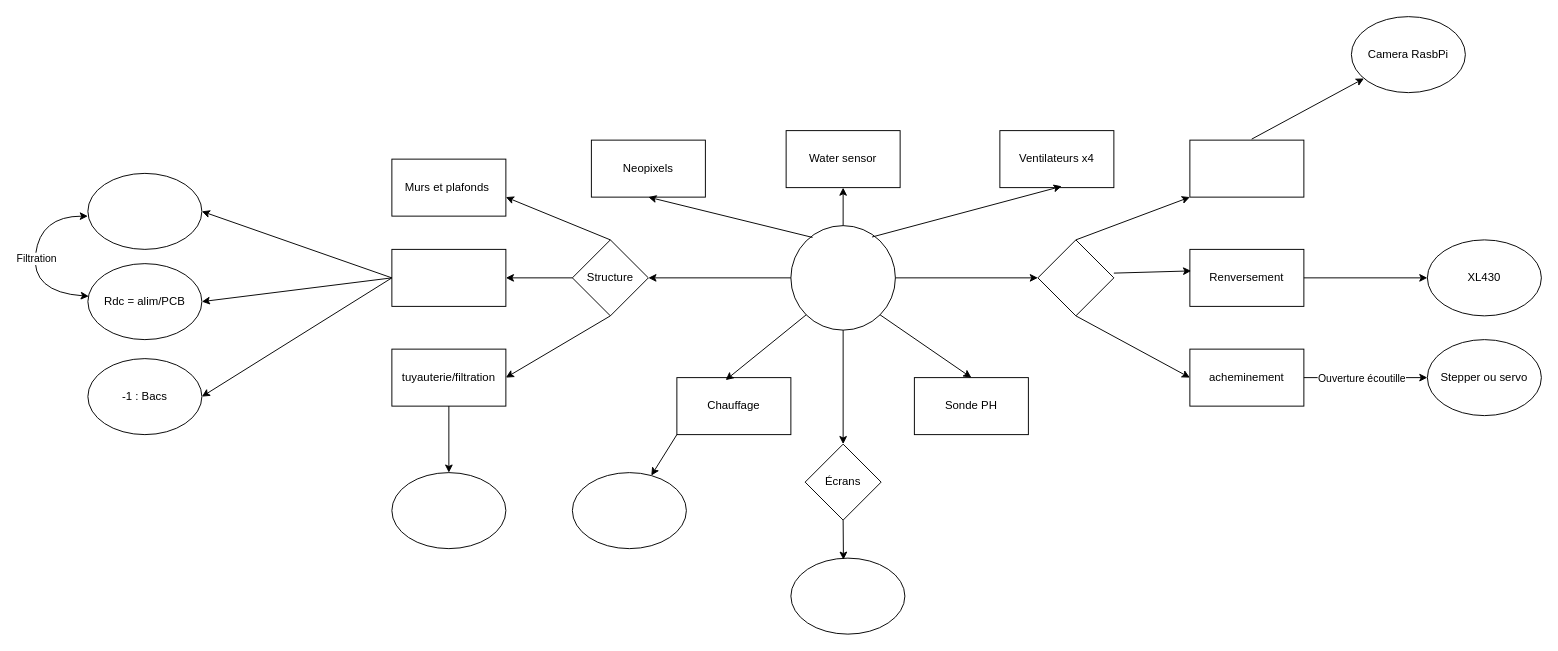
The diagram is 1558 pixels wide and 651 high, and some of its shapes have lost their labels. Each missing label, with the box of its shape:
1 : Test en gouttes: (87, 172, 202, 249)
AQUARIUM: (790, 225, 895, 330)
Colorimétrie: (1189, 139, 1304, 197)
I2C: (790, 557, 905, 634)
PETG: (391, 472, 506, 549)
Stepper: (571, 472, 686, 549)
Test en gouttes: (1037, 239, 1114, 316)
étages: (391, 248, 506, 306)
